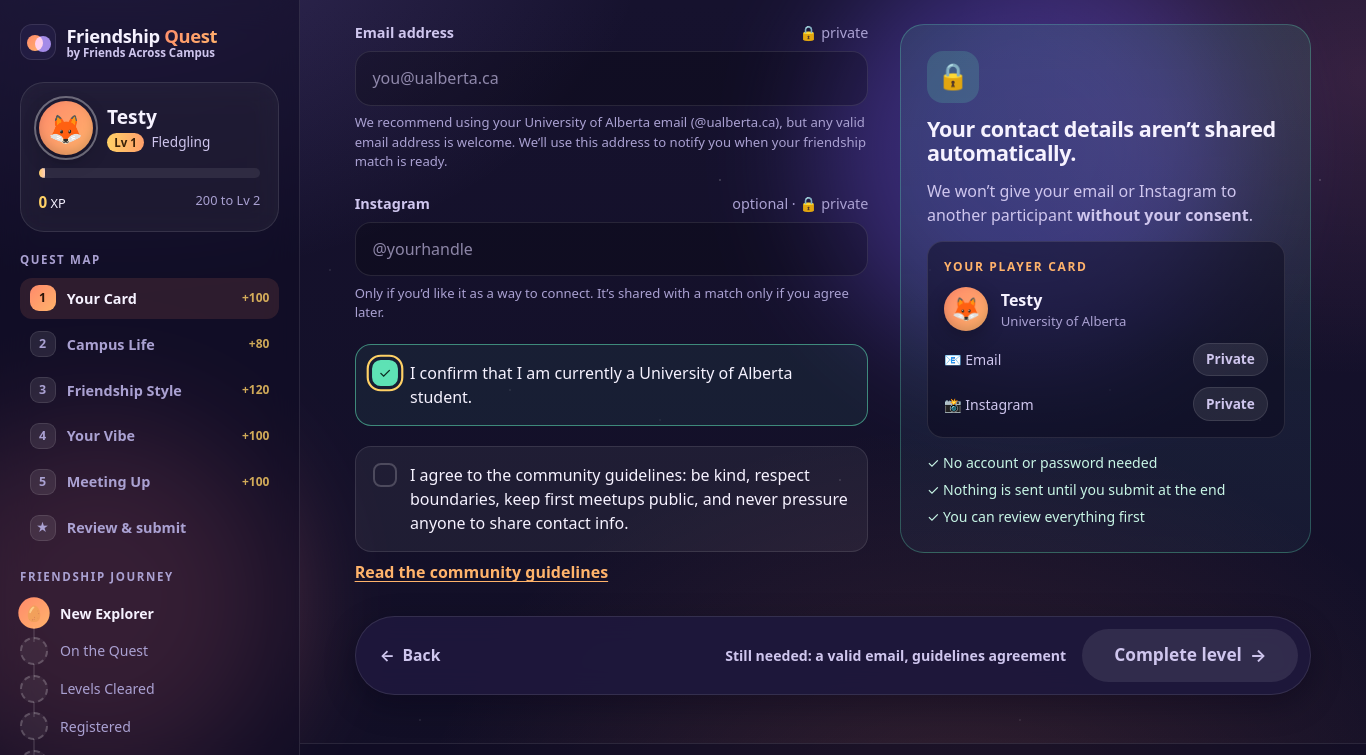
Scenario: level 1 › takes any valid email, and blocks invalid ones
Earlier steps of the test are not shown.
Later steps or results of the test are not shown.
(page scrolled)
Step 1. Click the checkbox labelled "community guidelines" → {"x": 612, "y": 500}, box [355,446,868,552]
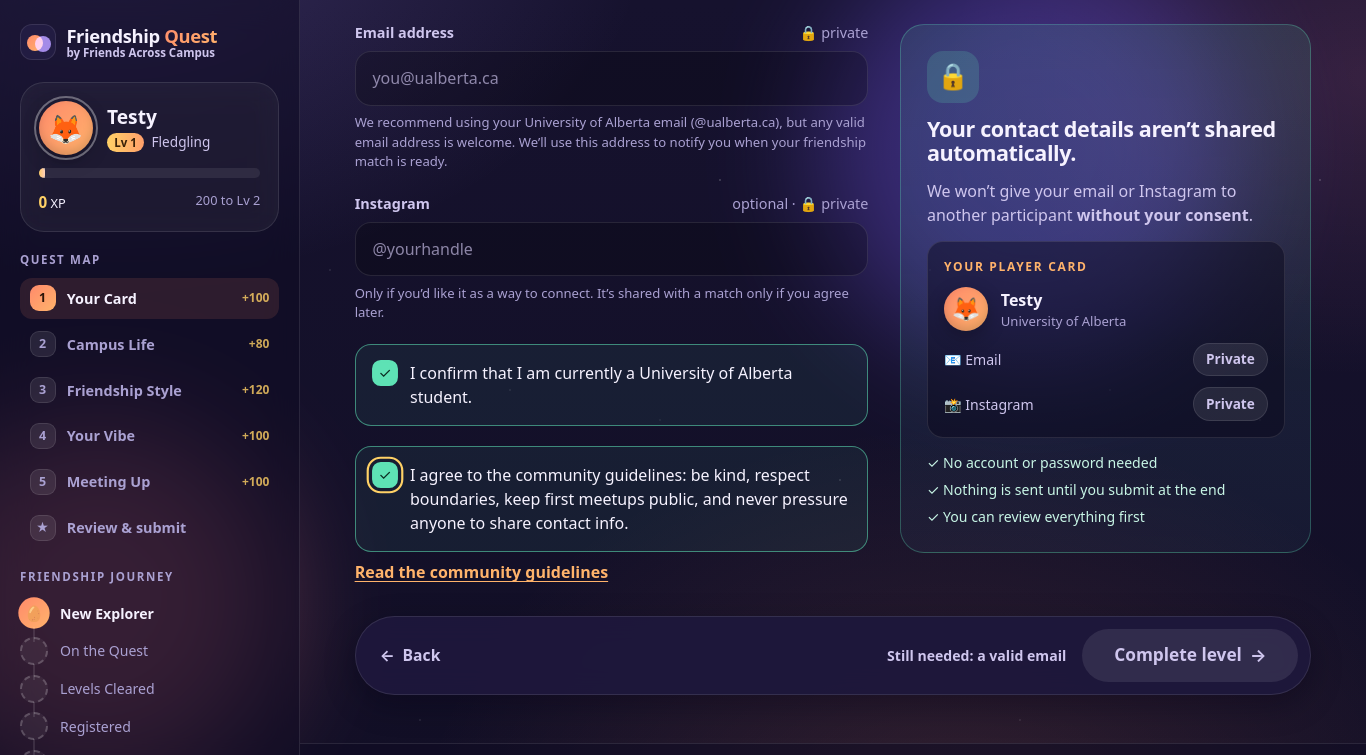
Step 2. Type "someone@gmail" into the field labelled "Email address 🔒 private" → {"x": 612, "y": 78}, box [355,51,868,106]
Step 3. Press Tab
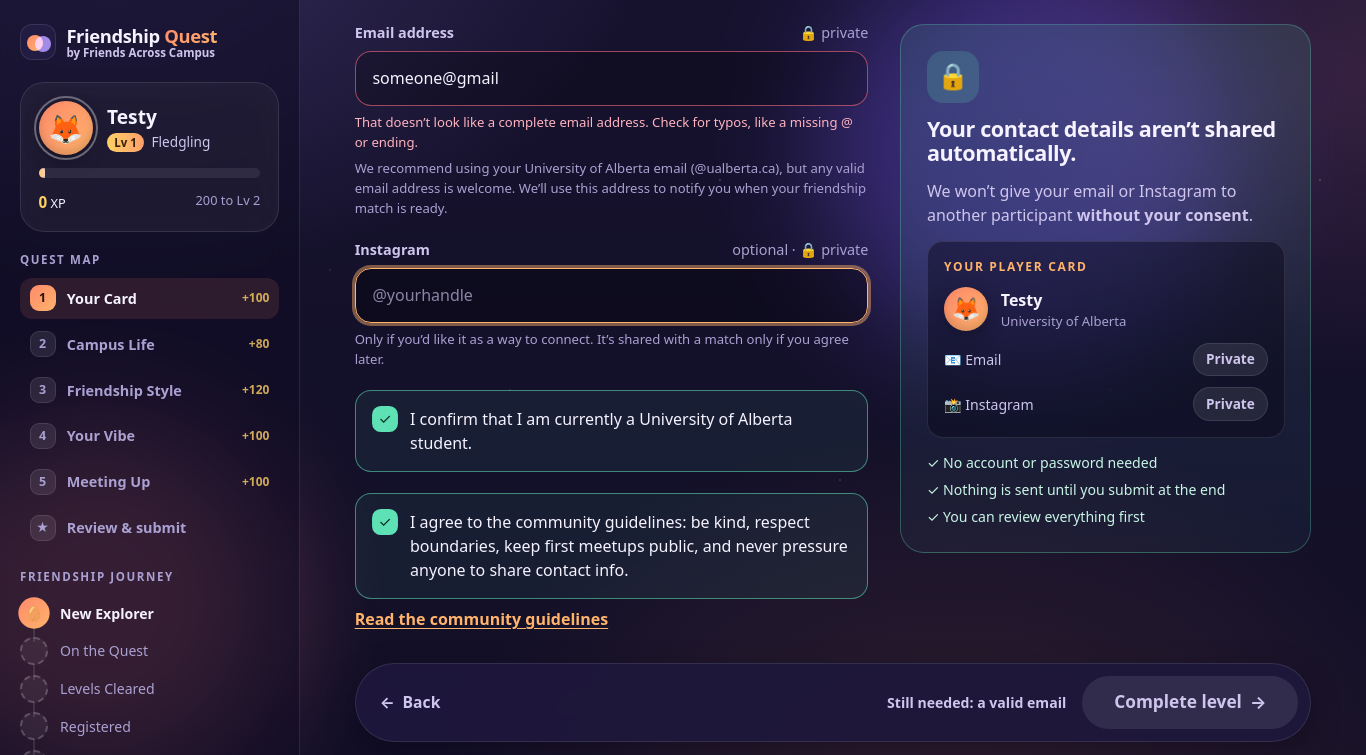
Expected: the button "Complete level →" is disabled, [1082,676,1298,729]
Expected: the field labelled "Email address 🔒 private" is marked as invalid
Step 4. Replace the text in the field labelled "Email address 🔒 private" with "someone@gmail.com" → {"x": 612, "y": 78}, box [355,51,868,106]
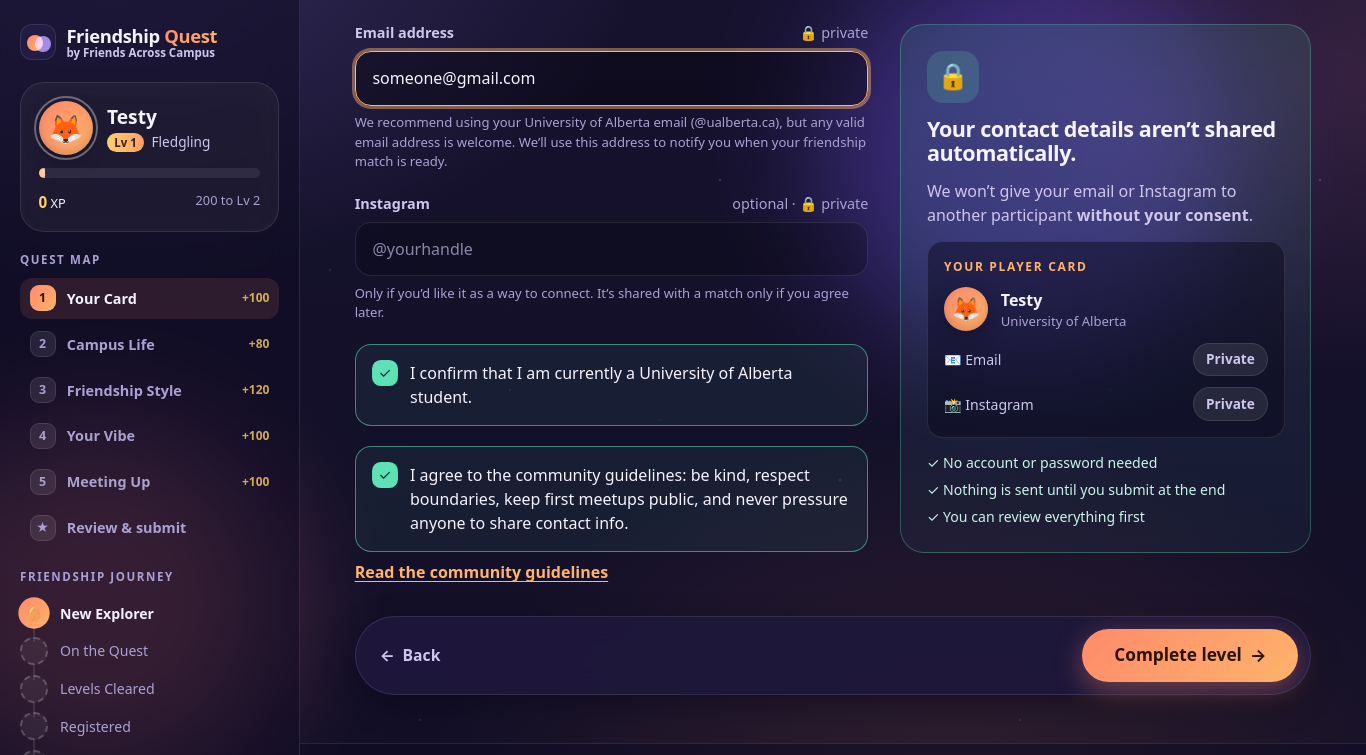
Step 5. Press Tab
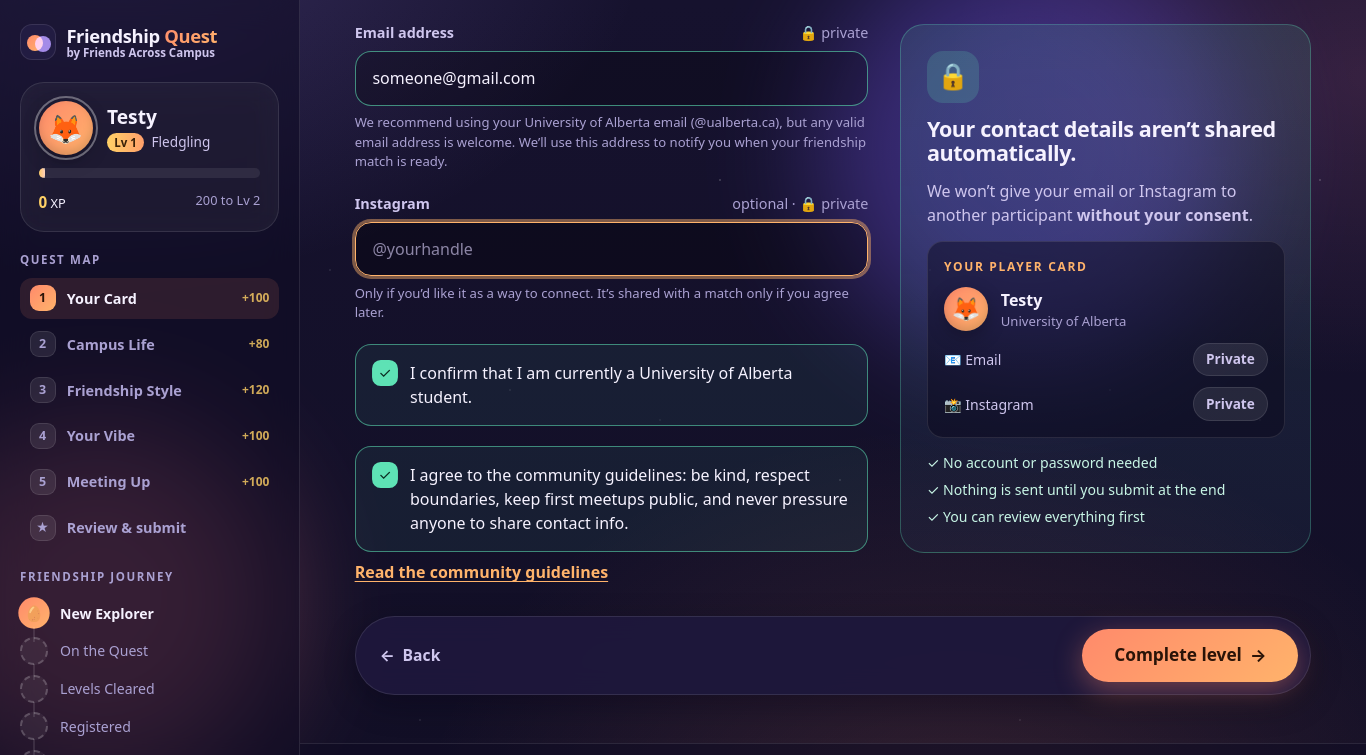
Expected: the button "Complete level →" is enabled, [1082,630,1298,682]
Step 6. Replace the text in the field labelled "Email address 🔒 private" with "x@ualberta.ca" → {"x": 612, "y": 78}, box [355,51,868,106]
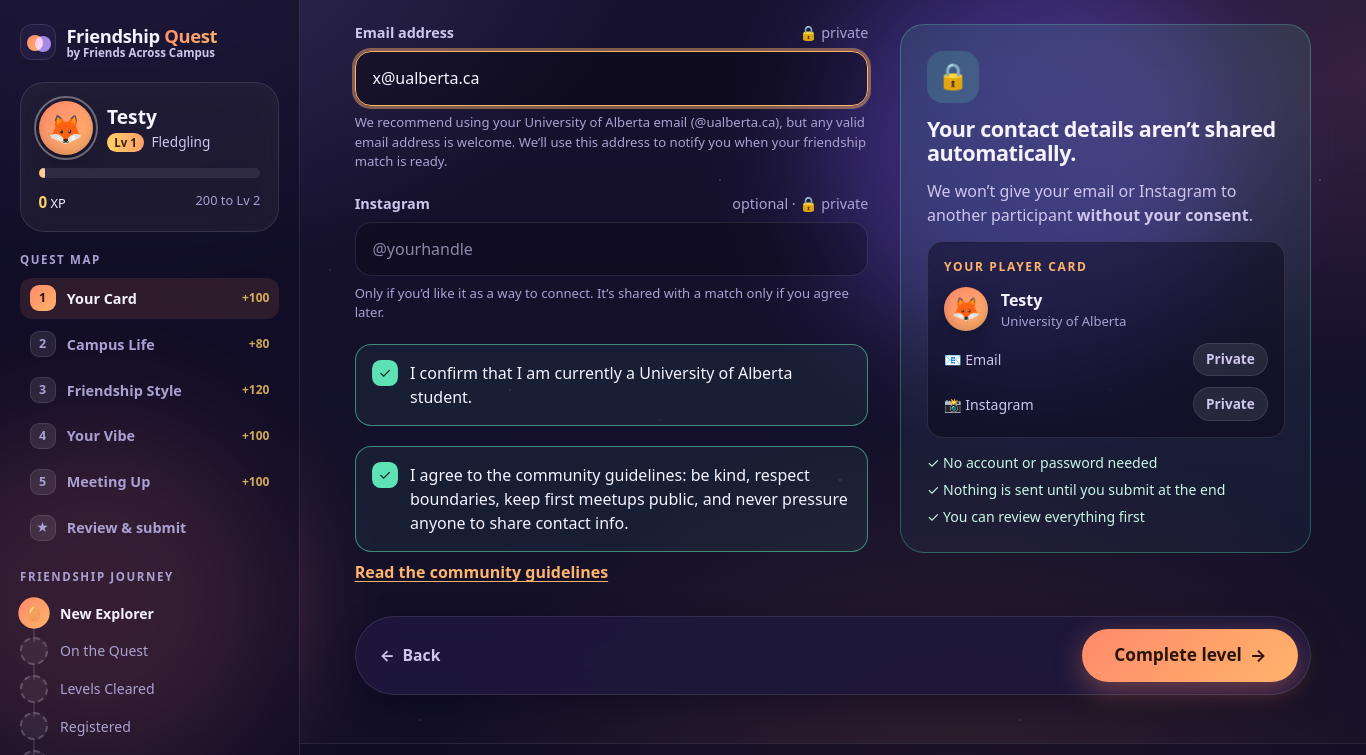
Step 7. Press Tab
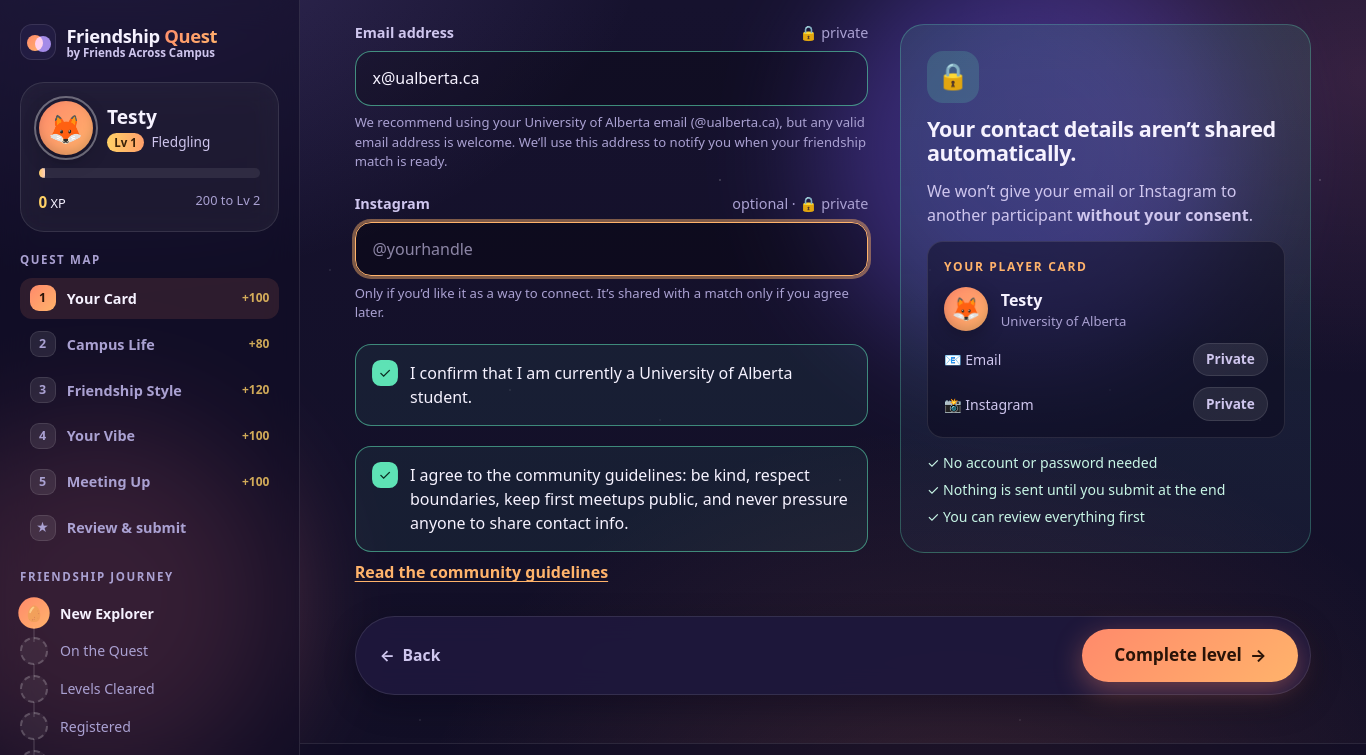
Expected: the button "Complete level →" is enabled, [1082,630,1298,682]
